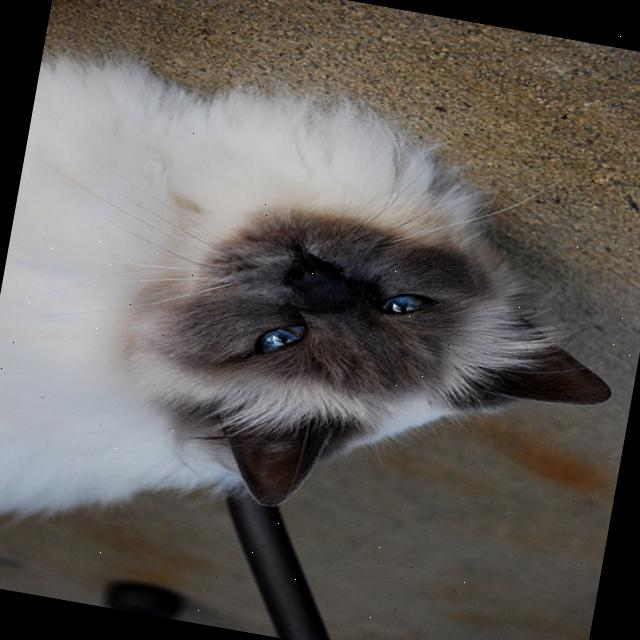cat-eye: (237, 310, 316, 366)
cat-eye-normal: (372, 278, 455, 338)
